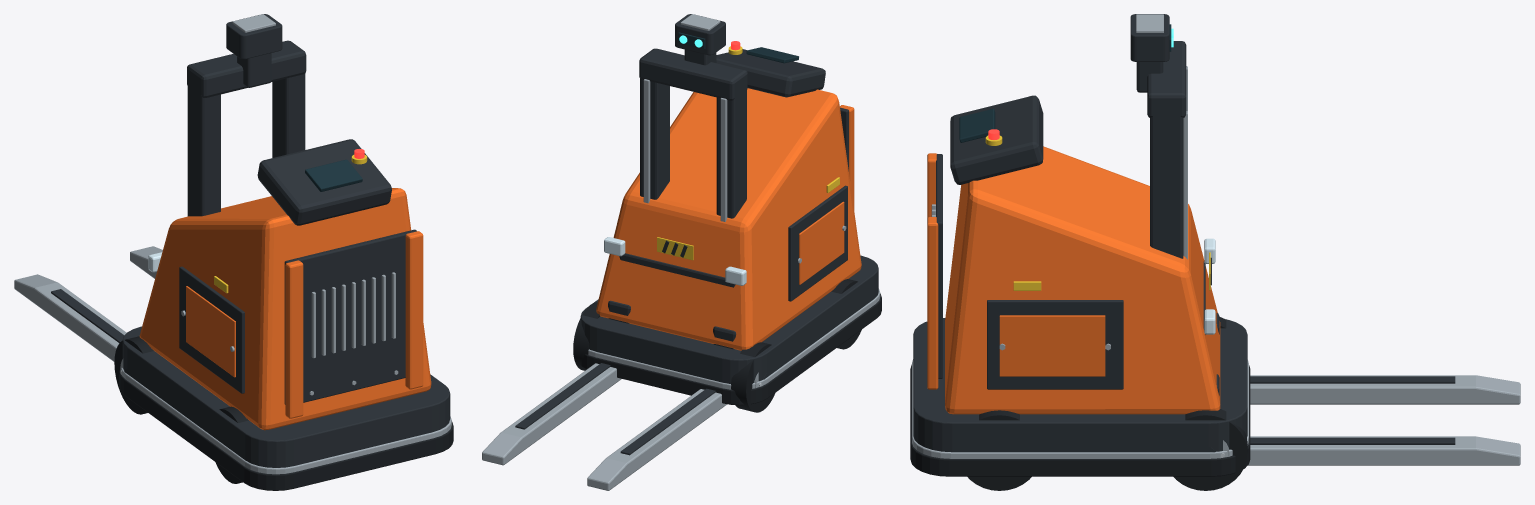
The model's file is SM_VR_OrangeTransporter.fbx.
3 views of the same model, side by side, from view 1: azimuth 30°, elevation 25°; view 2: azimuth 150°, elevation 25°; view 3: azimuth 270°, elevation 25° (orthographic). The views are drawn at different scales.
Parts seen in each view (by area): view 1: SM_VR_OrangeTransporter; view 2: SM_VR_OrangeTransporter; view 3: SM_VR_OrangeTransporter.
Part boxes in pixels (box(x1,y1,x2,y2)): SM_VR_OrangeTransporter: box(14, 14, 453, 490); SM_VR_OrangeTransporter: box(482, 14, 881, 490); SM_VR_OrangeTransporter: box(910, 14, 1520, 490).
Bounding box in the file's own units: 92 × 219 × 166.
